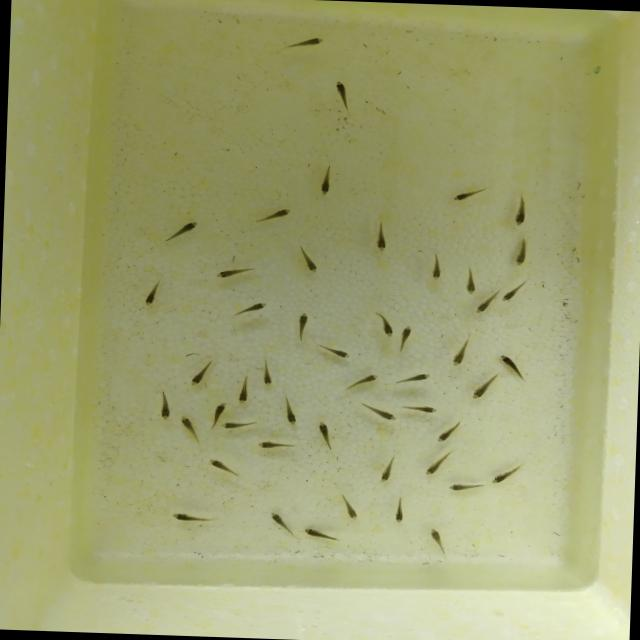fingerling: (469, 370, 504, 402), (328, 79, 356, 118), (276, 33, 328, 54), (422, 446, 456, 477), (160, 219, 199, 246), (187, 354, 217, 388), (489, 459, 526, 486), (374, 452, 402, 486), (426, 527, 455, 559), (449, 183, 492, 204), (250, 206, 293, 226), (268, 510, 298, 538), (359, 401, 398, 422), (207, 457, 244, 479), (294, 243, 320, 274), (314, 421, 338, 454), (450, 332, 472, 368), (370, 218, 392, 254), (342, 372, 379, 393), (178, 414, 203, 445), (498, 279, 529, 304), (511, 233, 533, 268), (170, 510, 220, 525), (434, 418, 464, 443), (314, 342, 354, 360), (316, 162, 336, 198), (214, 264, 258, 280), (337, 492, 361, 521), (302, 526, 342, 543), (372, 310, 396, 338), (444, 478, 486, 494), (231, 300, 268, 318), (511, 192, 529, 228), (392, 371, 432, 387), (143, 276, 163, 308), (279, 395, 299, 426), (292, 310, 310, 344), (235, 371, 252, 406), (156, 388, 173, 422), (427, 250, 445, 282), (396, 324, 414, 355), (255, 439, 298, 451), (400, 402, 439, 415), (392, 494, 408, 525), (496, 352, 523, 370), (462, 265, 478, 295), (259, 358, 275, 387), (218, 419, 260, 430), (472, 298, 492, 316), (212, 401, 228, 418)
